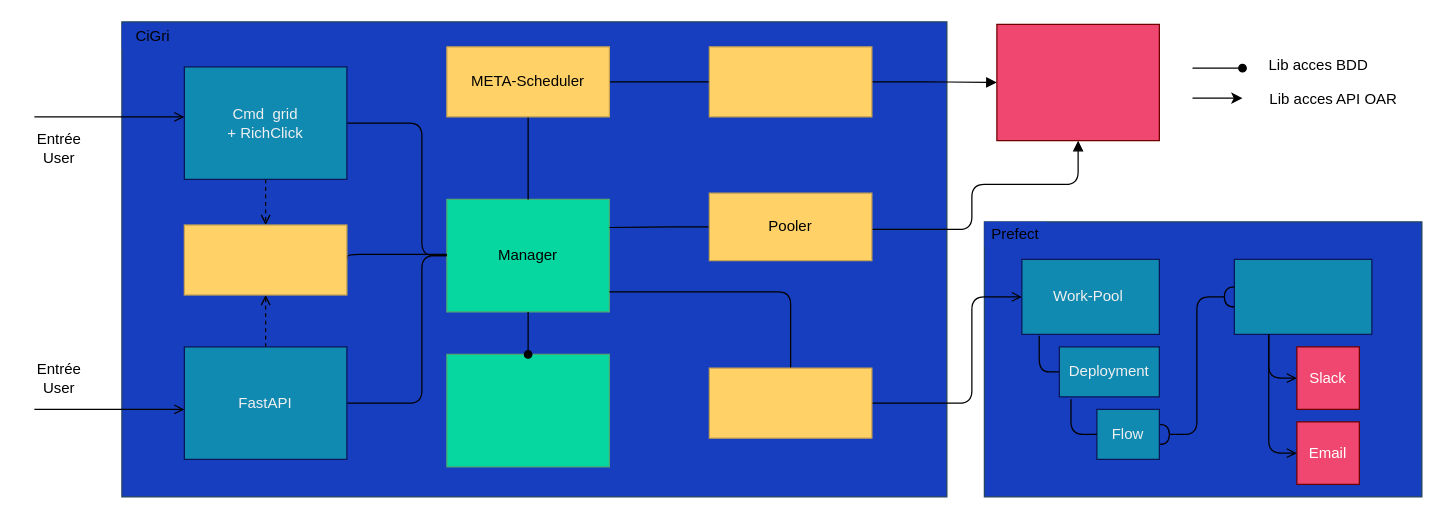
Some shapes in this 1444 by 519 pixel diagram are drawn without their labels. The shapes that lost their labels are listed below. From the top down, each one's centre as x and y in pixels, then its label:
At point 790,81: "Submitter".
At point 1077,82: "API OAR3".
At point 265,259: "JDL Parser".
At point 1302,296: "Automations".
At point 527,410: "Base de Données".
At point 790,402: "Notifier".
